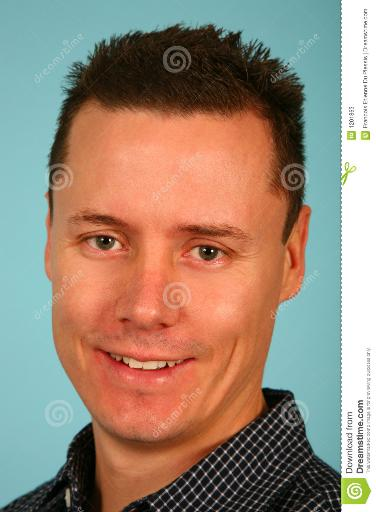left_eye: (183, 244, 237, 270)
left_lip_corner: (185, 353, 204, 368)
right_eye: (78, 232, 130, 257)
right_lip_corner: (90, 341, 111, 360)
